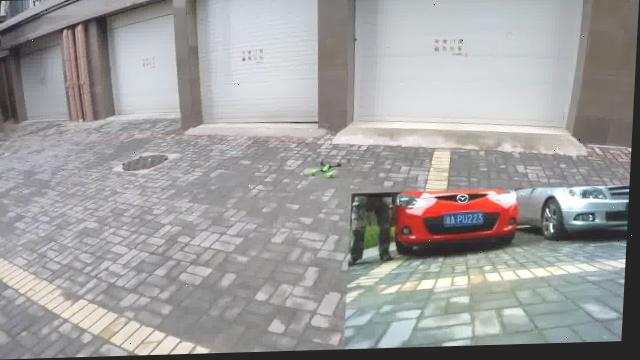drone: (304, 155, 353, 183)
